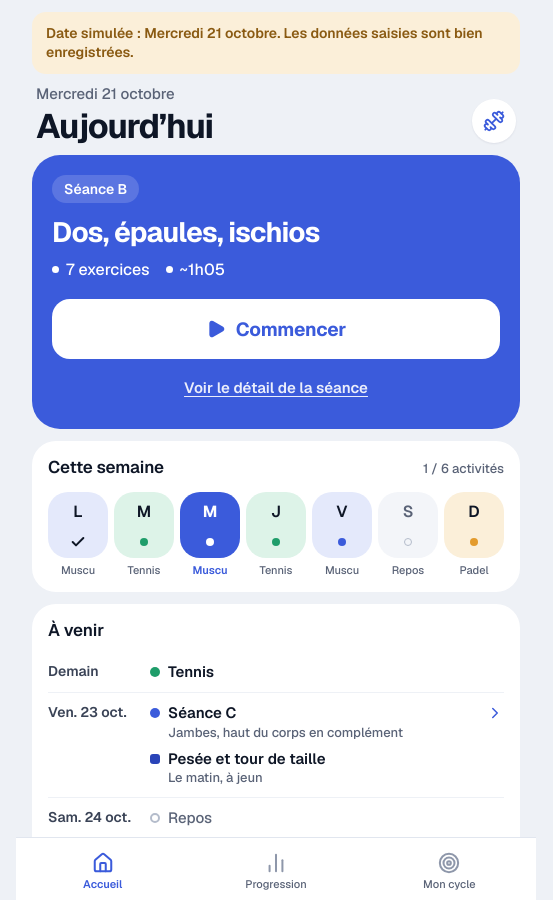
it: App › affiche la progression même si l'historique contient un exercice retiré
What coordinates should you click on to do the following:
click the button "Progression"
I would click on:
 (276, 871)
Its box is left=189, top=846, right=363, bottom=896.
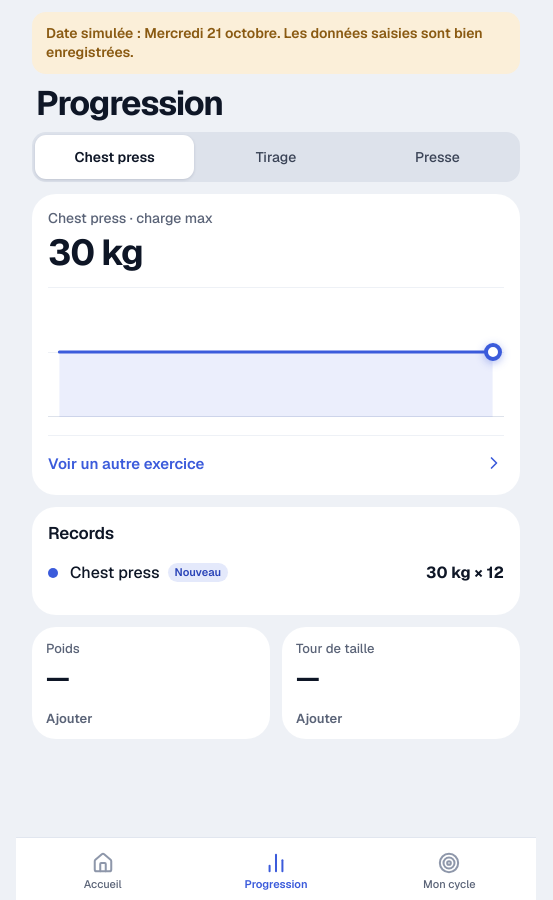
expect the heading "Progression" is shown: met, box left=36, top=81, right=223, bottom=125
expect the text "30 kg × 12" is shown: met, box left=426, top=565, right=504, bottom=581
